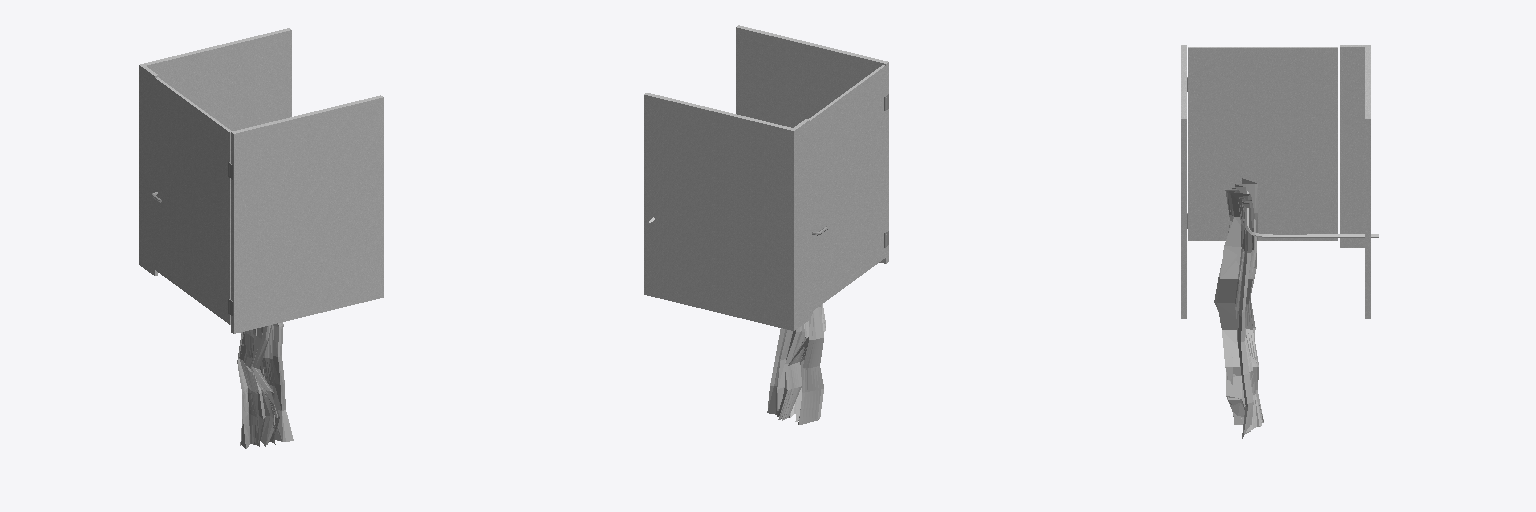
3 renders of one model, left to right at view 1: azimuth 30°, elevation 25°; view 2: azimuth 150°, elevation 25°; view 3: azimuth 270°, elevation 25°, orthographic.
Visible parts, largest first — view 1: Cube, Plane.001; view 2: Cube, Plane.001; view 3: Cube, Plane.001, BezierCurve_Mesh.
Part boxes in pixels (x1,y1,x2,y2): Cube: (139, 28, 383, 333); Plane.001: (237, 322, 293, 448); Cube: (644, 25, 888, 330); Plane.001: (767, 304, 825, 424); Cube: (1181, 45, 1370, 318); Plane.001: (1214, 178, 1263, 438); BezierCurve_Mesh: (1245, 191, 1378, 237).
Bounding box in the file's own units: 2.09 × 4.47 × 2.27.
3 materials, 1 textured.